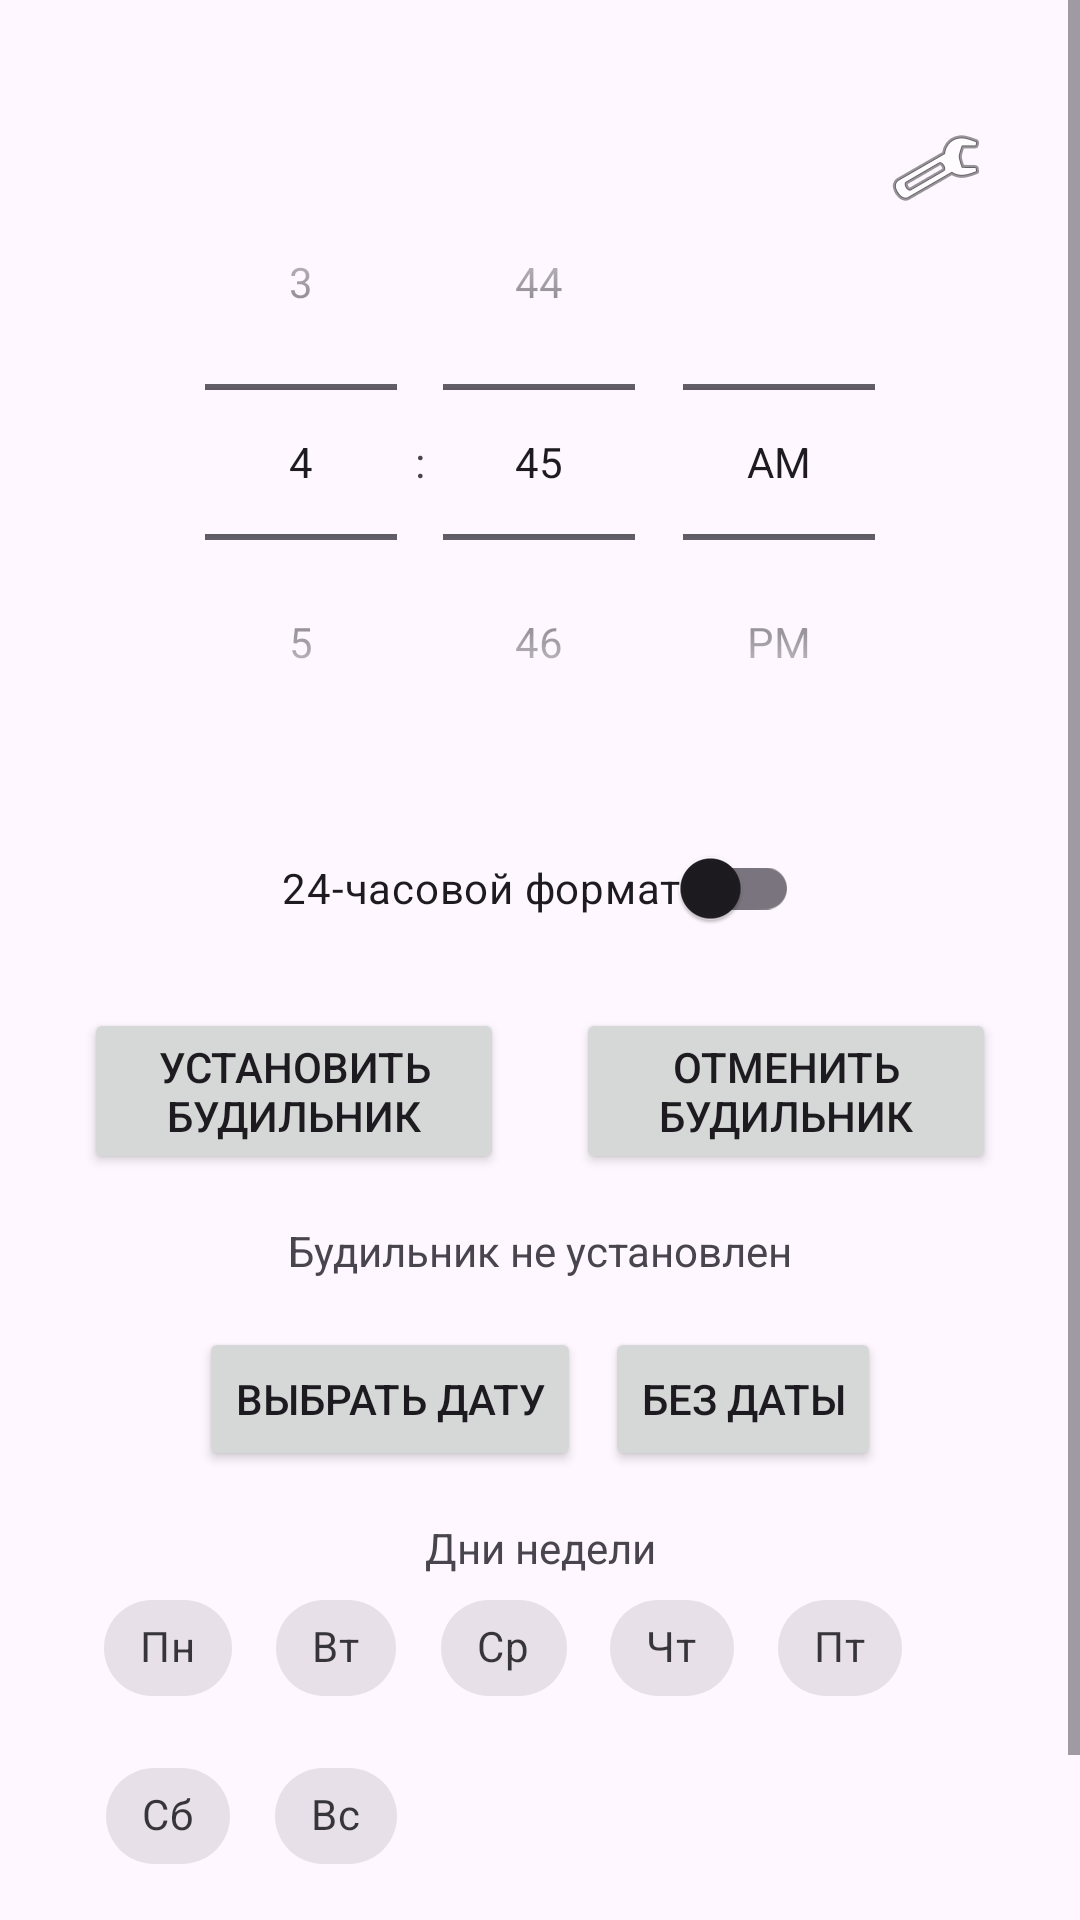

Named icons in this screenshot (1080px x 1920px) and their centers, (x=x, y=y):
Настройки: (x=936, y=168)
